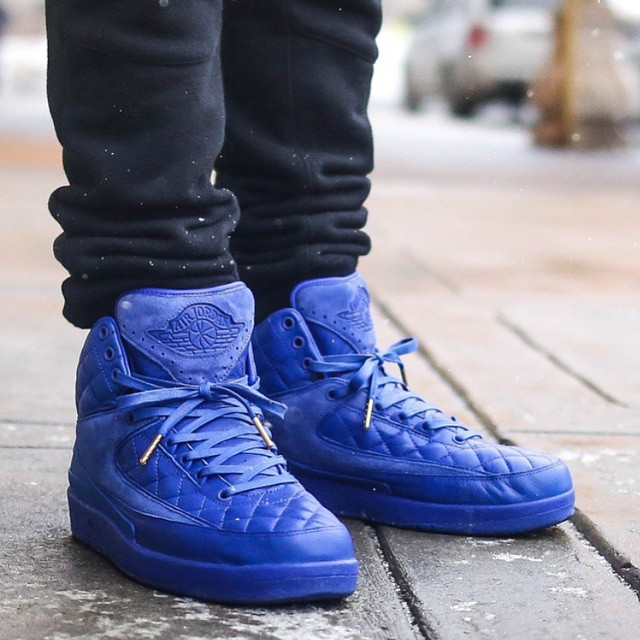sneaker: (25, 240, 393, 634), (235, 261, 594, 559)
